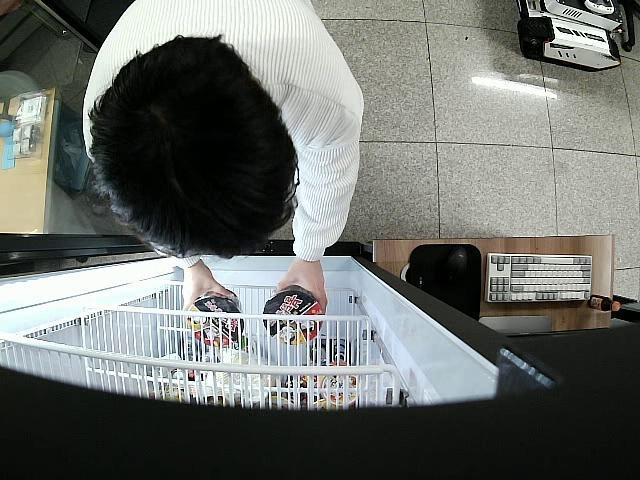07_buldak_L: (184, 288, 244, 348), (264, 287, 323, 342)
